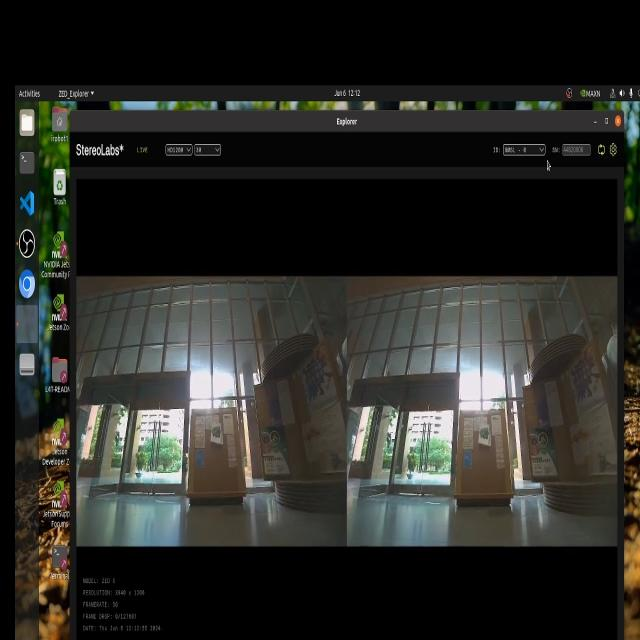green: (479, 424, 496, 451), (211, 422, 219, 448)
